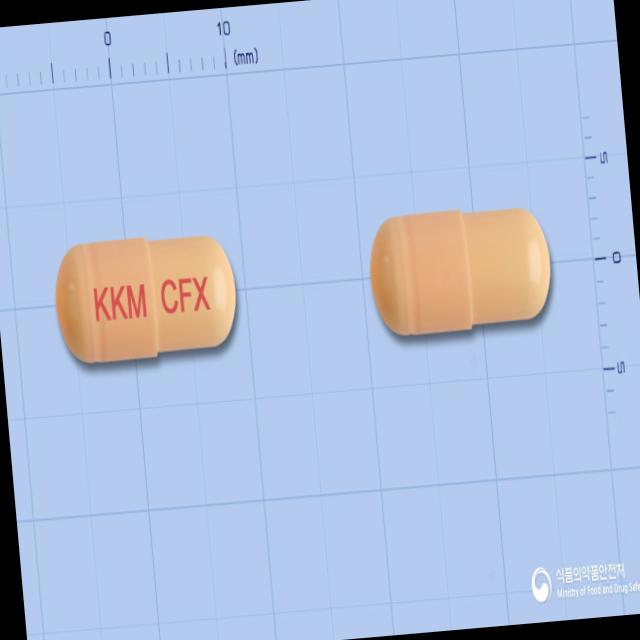Cefick Cap: (48, 223, 245, 375)
